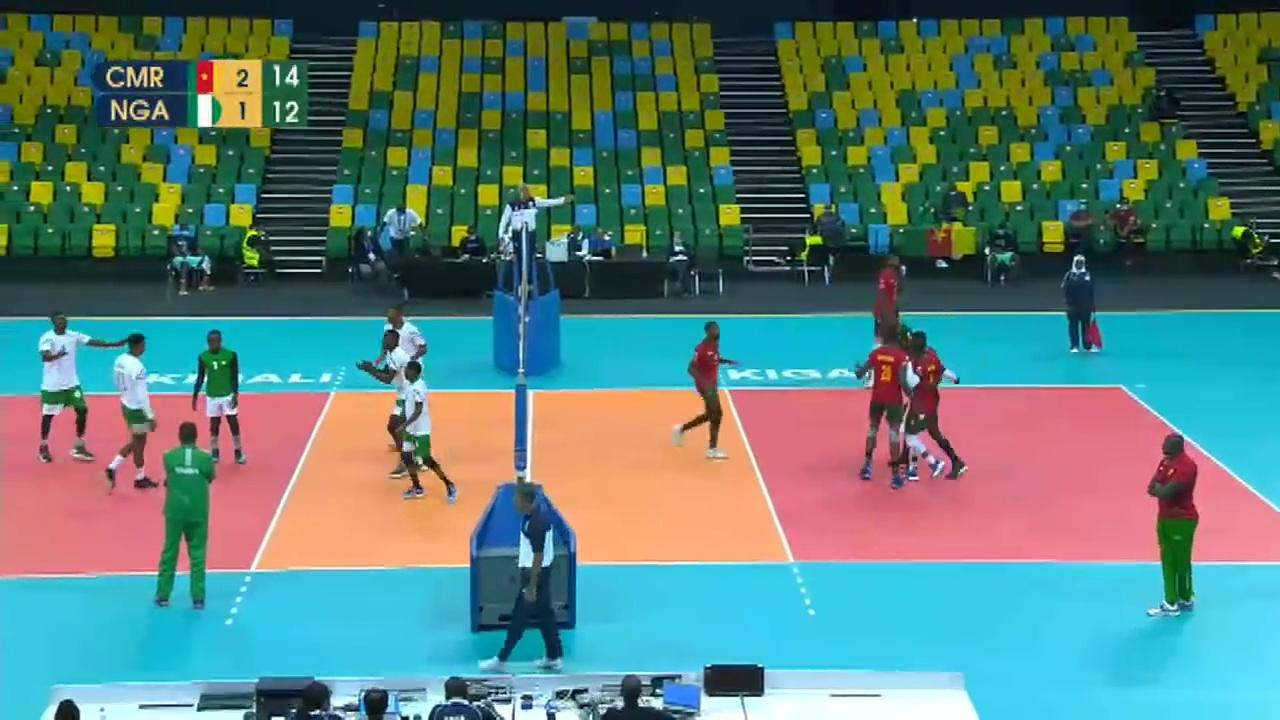player: (39, 314, 116, 461), (901, 329, 962, 481), (391, 365, 457, 501), (361, 336, 421, 472), (858, 333, 910, 482), (679, 324, 737, 456), (381, 299, 429, 448), (112, 337, 158, 491), (192, 332, 245, 463), (867, 252, 907, 385)
refree: (492, 485, 571, 671), (499, 181, 555, 287), (1062, 255, 1100, 355)
